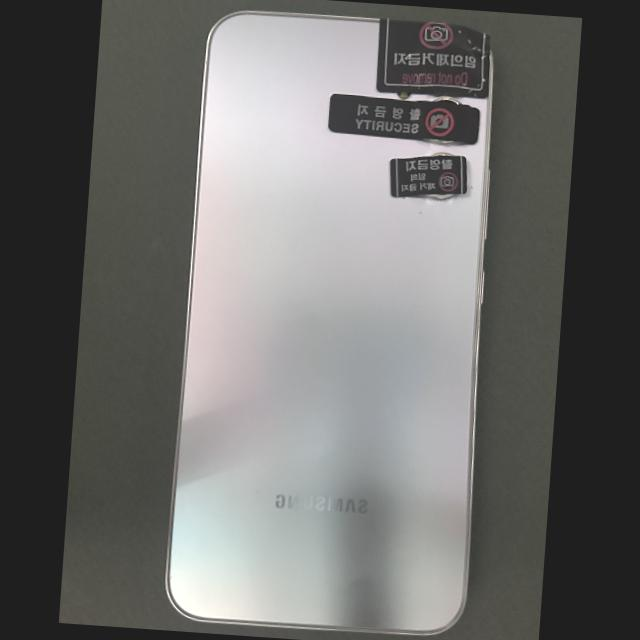lens: (432, 99, 458, 104), (430, 154, 450, 157)
phone: (164, 13, 493, 635)
sticker: (376, 18, 490, 98), (327, 93, 481, 143), (389, 155, 467, 197)
